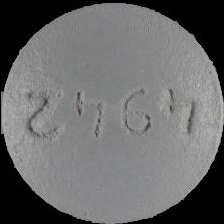68084-607: (0, 0, 224, 224)
